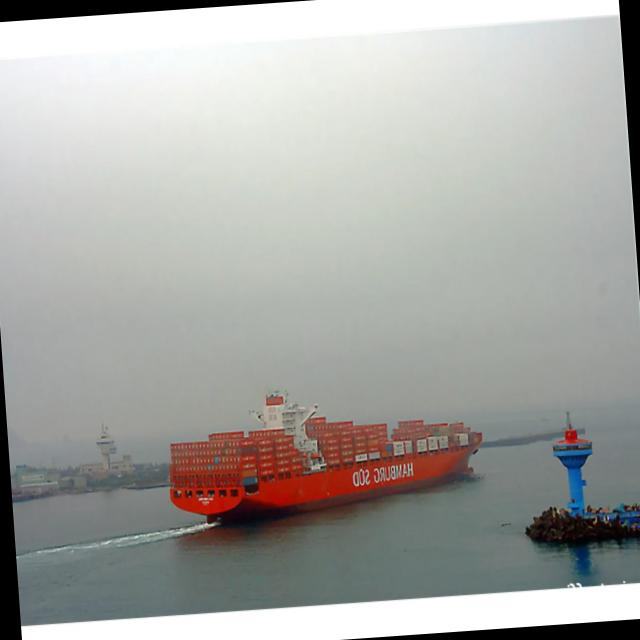Cargo: (169, 394, 482, 522)
